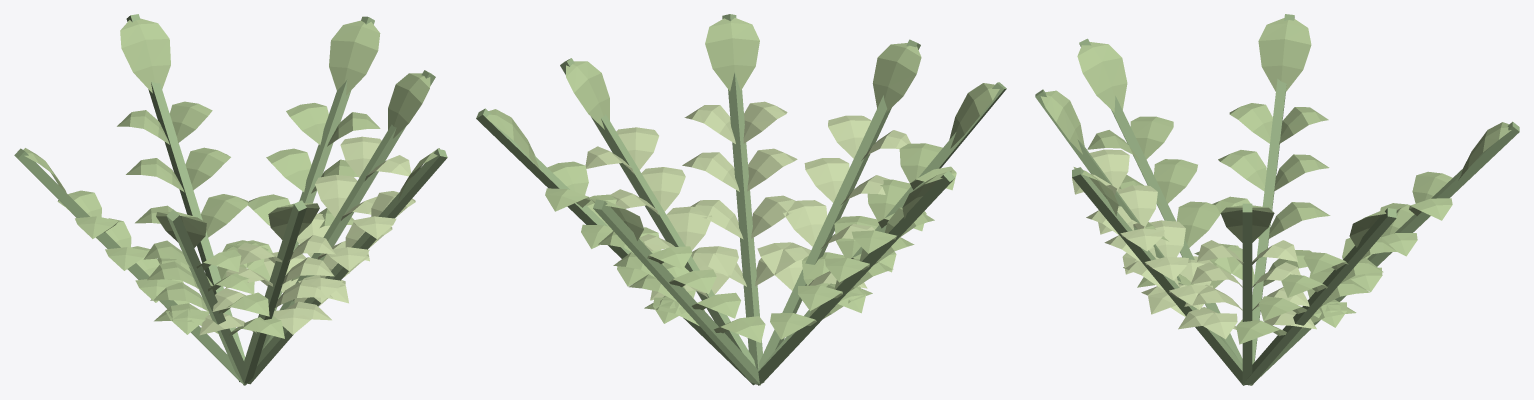
File: crafted-crop-carrot-2.glb
3 renders of one model, left to right at view 1: azimuth 30°, elevation 25°; view 2: azimuth 150°, elevation 25°; view 3: azimuth 270°, elevation 25°, orthographic. The views are drawn at different scales.
Visible parts, largest first — view 1: frond-tip-2, frond-tip-5, frond-tip, frond-stem-0-2, frond-stem-1-3, carrot-leaflet-19, frond-stem-0-1, frond-stem-1-4, carrot-leaflet-44, frond-stem-1, frond-stem-0-6, frond-stem-1-5 (+49 smaller); view 2: frond-tip-3, frond-stem-0-3, frond-tip-6, frond-stem-0-6, frond-stem-0-2, frond-tip, frond-stem-0, frond-stem-1-5, frond-stem-0-4, frond-stem-1-2, frond-tip-1, carrot-leaflet-50 (+43 smaller); view 3: frond-tip-4, frond-tip-1, frond-stem-0-5, frond-stem-0-3, frond-stem-1-2, frond-stem-0-4, frond-stem-1-3, carrot-leaflet-13, frond-stem-1-5, carrot-leaflet-11, frond-tip-6, carrot-leaflet-15 (+40 smaller).
Boxes of the visible parts, <box> form: frond-tip-2: <box>120,18,170,93</box>; frond-tip-5: <box>329,20,380,95</box>; frond-tip: <box>388,73,430,138</box>; frond-stem-0-2: <box>171,159,245,381</box>; frond-stem-1-3: <box>358,148,447,248</box>; carrot-leaflet-19: <box>201,194,248,237</box>; frond-stem-0-1: <box>196,281,247,385</box>; frond-stem-1-4: <box>14,148,114,248</box>; carrot-leaflet-44: <box>266,148,311,191</box>; frond-stem-1: <box>350,70,435,199</box>; frond-stem-0-6: <box>242,274,284,385</box>; frond-stem-1-5: <box>313,16,374,164</box>; frond-tip-3: <box>705,18,759,90</box>; frond-stem-0-3: <box>734,160,762,370</box>; frond-tip-6: <box>872,43,921,112</box>; frond-stem-0-6: <box>759,174,857,382</box>; frond-stem-0-2: <box>657,271,760,385</box>; frond-tip: <box>566,61,609,129</box>; frond-stem-0: <box>637,185,755,366</box>; frond-stem-1-5: <box>476,108,596,224</box>; frond-stem-0-4: <box>757,256,877,385</box>; frond-stem-1-2: <box>593,199,668,279</box>; frond-tip-1: <box>949,83,999,148</box>; carrot-leaflet-50: <box>782,200,827,246</box>; frond-tip-4: <box>1258,18,1311,91</box>; frond-tip-1: <box>1077,42,1127,112</box>; frond-stem-0-5: <box>1243,275,1338,385</box>; frond-stem-0-3: <box>1141,251,1245,385</box>; frond-stem-1-2: <box>1405,121,1519,232</box>; frond-stem-0-4: <box>1252,160,1277,364</box>; frond-stem-1-3: <box>1072,167,1148,260</box>; carrot-leaflet-13: <box>1154,159,1197,203</box>; frond-stem-1-5: <box>1330,208,1396,284</box>; carrot-leaflet-11: <box>1176,201,1220,247</box>; frond-tip-6: <box>1040,90,1084,154</box>; carrot-leaflet-15: <box>1130,116,1173,159</box>.
Bounding box in the file's own units: 0.4409 × 0.2781 × 0.4492.
